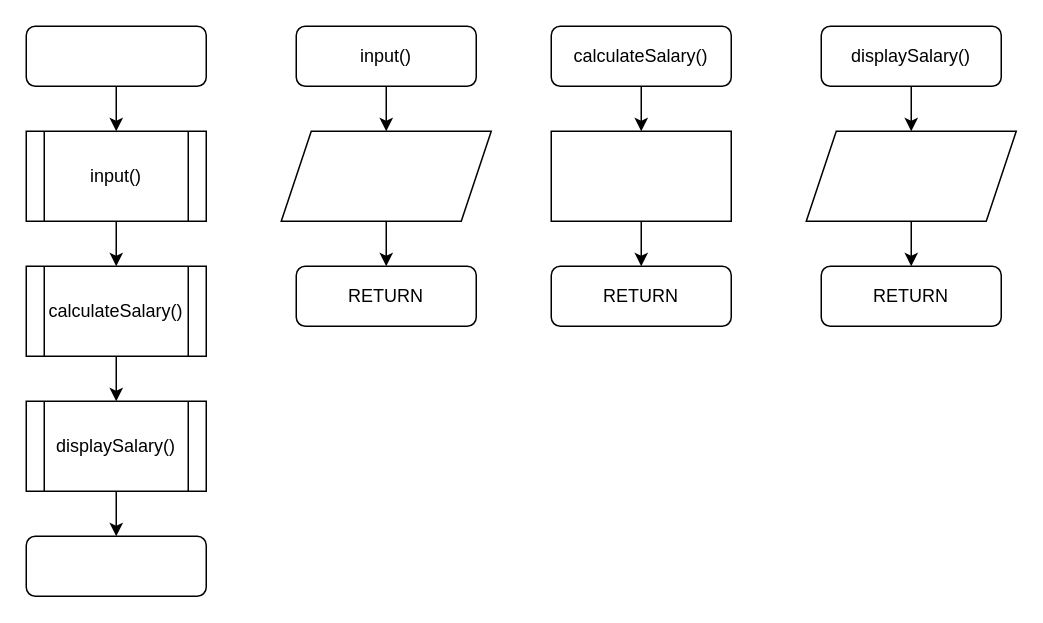
This 1043x623 diagram has some shape labels left out. Here are the shapes that lost their labels. From the top down, the centre of each, then its label:
At (x=115, y=55): "START".
At (x=385, y=175): "Read employee’s working hour, HOUR".
At (x=640, y=175): "SALARY = HOUR*6.5".
At (x=910, y=175): "Print SALARY".
At (x=115, y=565): "END".
